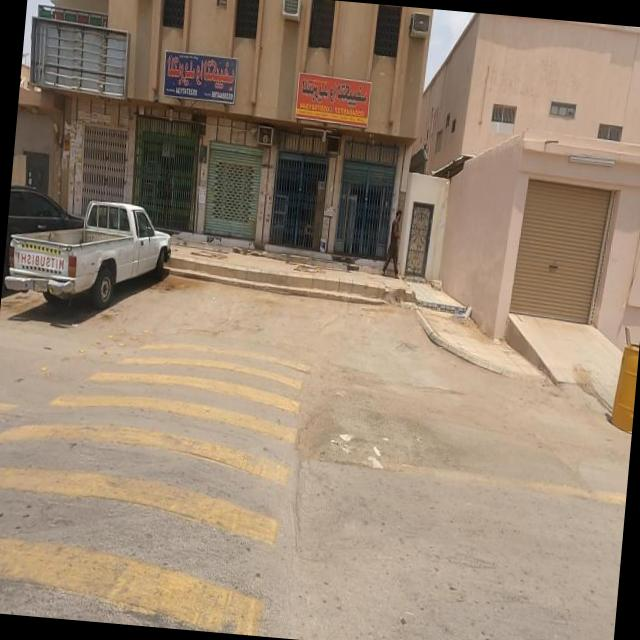debris: (14, 0, 197, 158)
